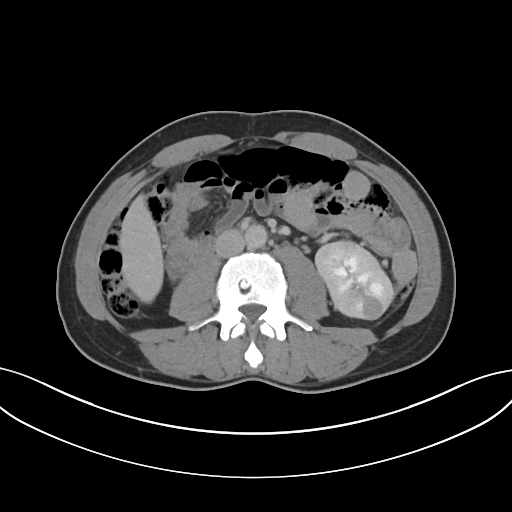Lesion: (357, 291, 387, 320)
